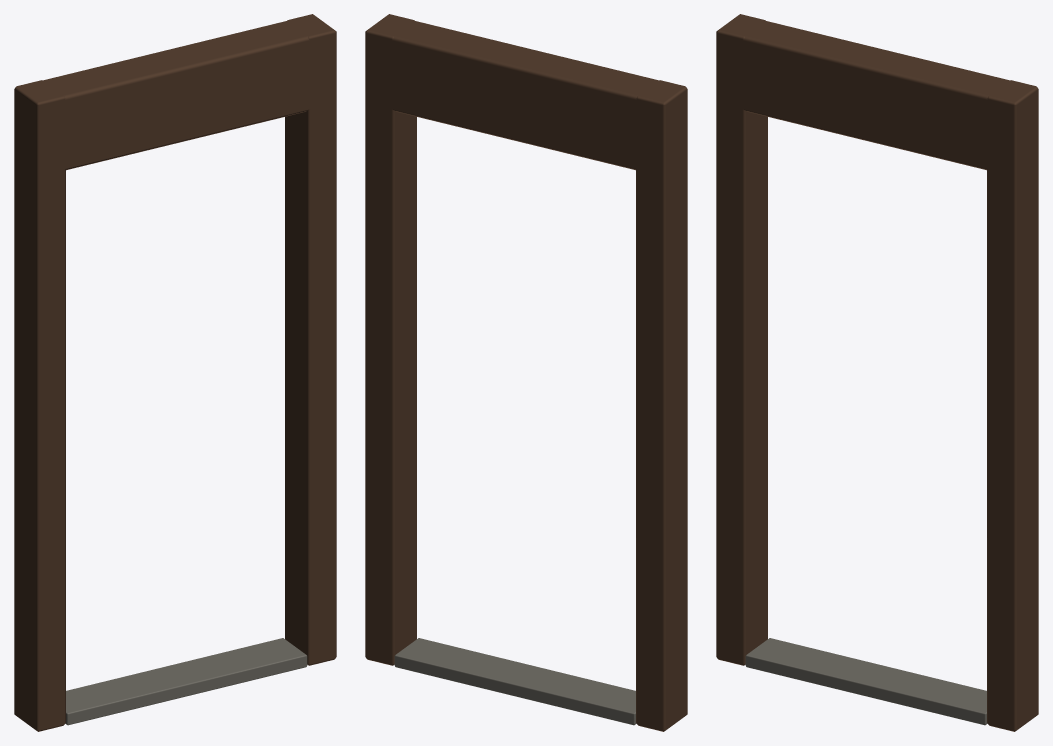
Rendered from village-door-frame.bd09a944.glb.
3 renders of one model, left to right at view 1: azimuth 30°, elevation 25°; view 2: azimuth 150°, elevation 25°; view 3: azimuth 330°, elevation 25°, orthographic.
Parts seen in each view (by area): view 1: body; view 2: body; view 3: body.
Boxes of the visible parts, box(x1,y1,x2,y2) form: body: box(14, 14, 336, 731); body: box(365, 14, 687, 731); body: box(716, 14, 1038, 731).
Size of the model in its own units: 1 by 2 by 0.14.
